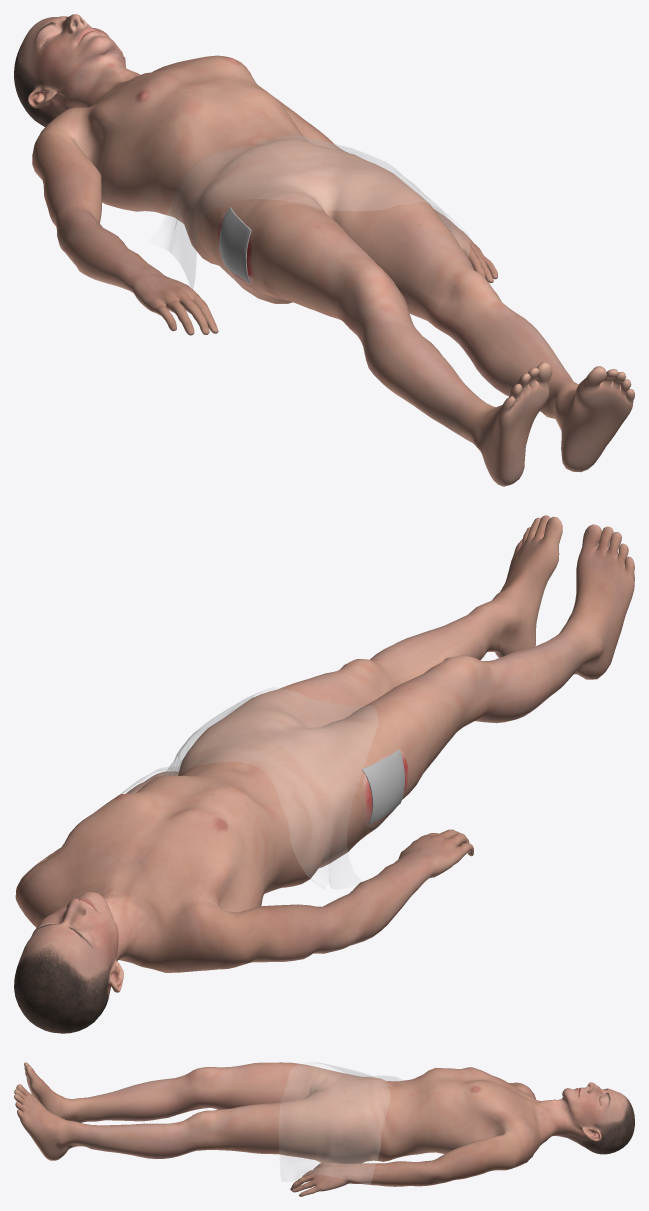
Rendered from CorpoGaze.fbx.
The picture shows the model from 3 angles, top to bottom: view 1: azimuth 30°, elevation 25°; view 2: azimuth 150°, elevation 25°; view 3: azimuth 270°, elevation 25°; orthographic projection. The views are drawn at different scales.
Visible parts, largest first — view 1: CorpoGaze; view 2: CorpoGaze; view 3: CorpoGaze.
Boxes of the visible parts, x1,y1,x2,y2 form: CorpoGaze: (14,14,634,486); CorpoGaze: (14,515,634,1033); CorpoGaze: (14,1062,634,1196).
Bounding box in the file's own units: 64.25 × 26.97 × 186.
